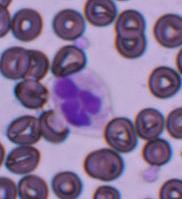N: (52, 68, 113, 135)
